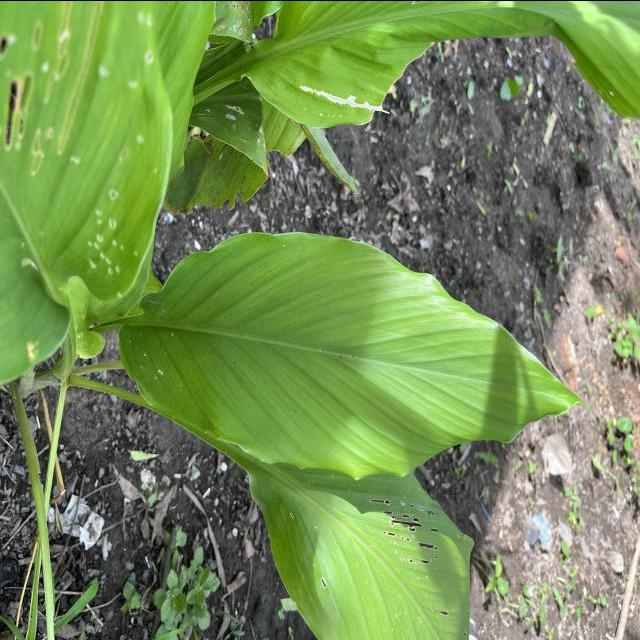Curcuma longa: (114, 224, 602, 492)
